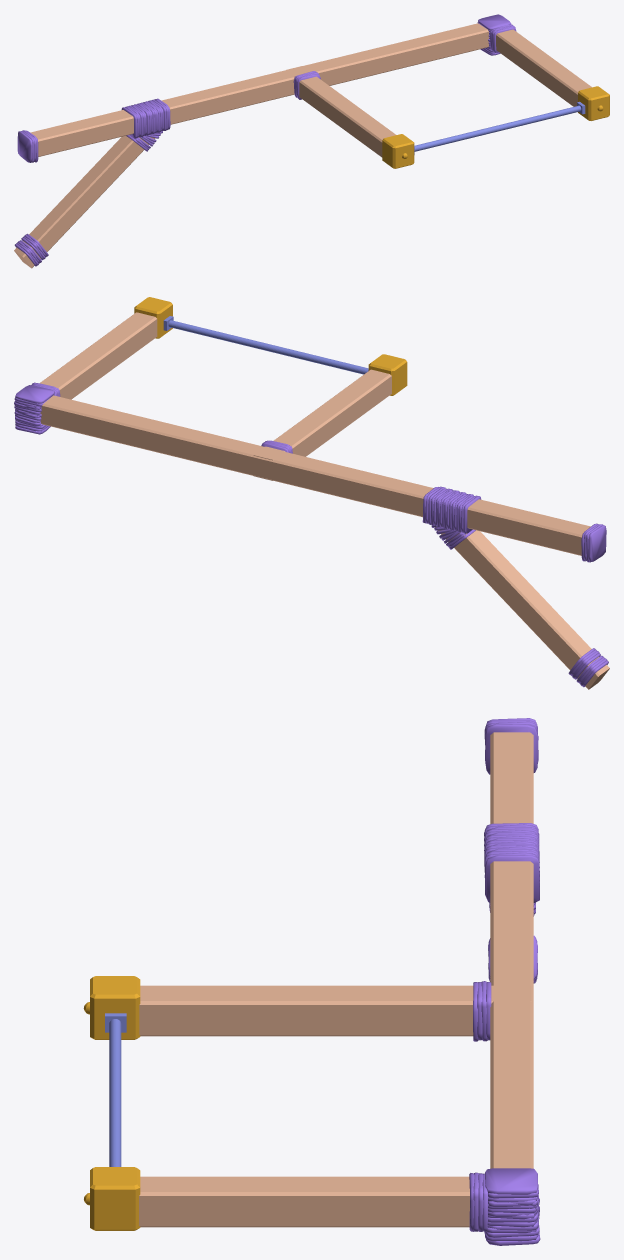
Rendered from Boss2_Platform_Left_Top.fbx.
3 renders of one model, top to bottom at view 1: azimuth 30°, elevation 25°; view 2: azimuth 150°, elevation 25°; view 3: azimuth 270°, elevation 25°, orthographic. The views are drawn at different scales.
Parts seen in each view (by area): view 1: Cube.002; view 2: Cube.002; view 3: Cube.002.
Part boxes in pixels (left/top/right/bottom): Cube.002: left=14, top=14, right=609, bottom=268; Cube.002: left=14, top=297, right=609, bottom=689; Cube.002: left=83, top=718, right=540, bottom=1245.
Bounding box in the file's own units: 2614 × 676 × 1057.
